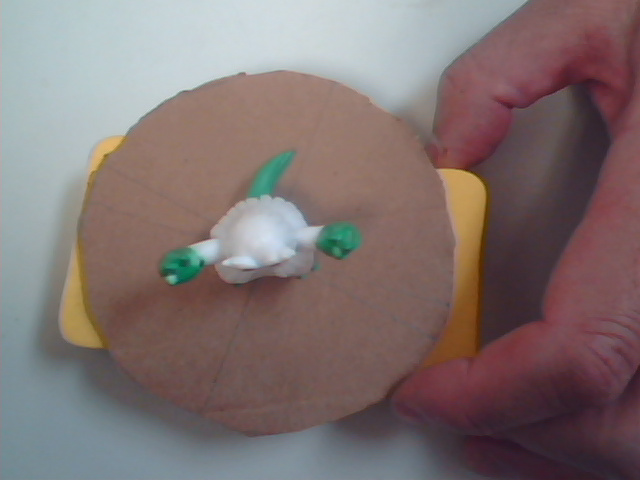abomasnow: (160, 125, 392, 351)
